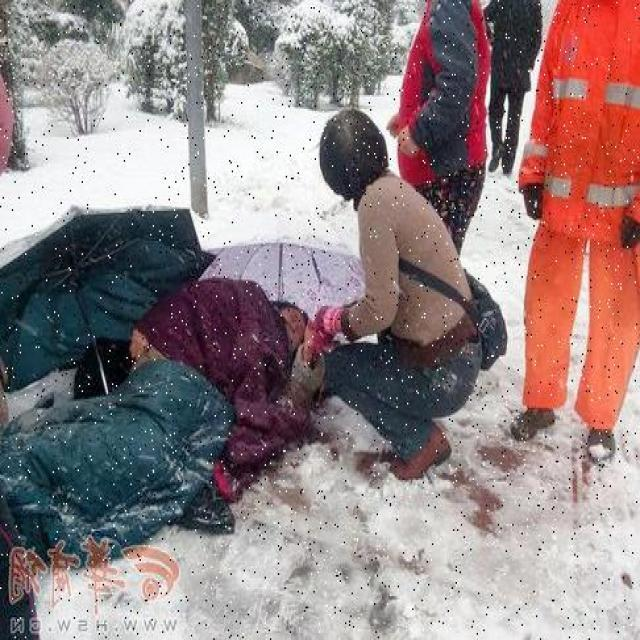fall: (44, 280, 318, 526)
